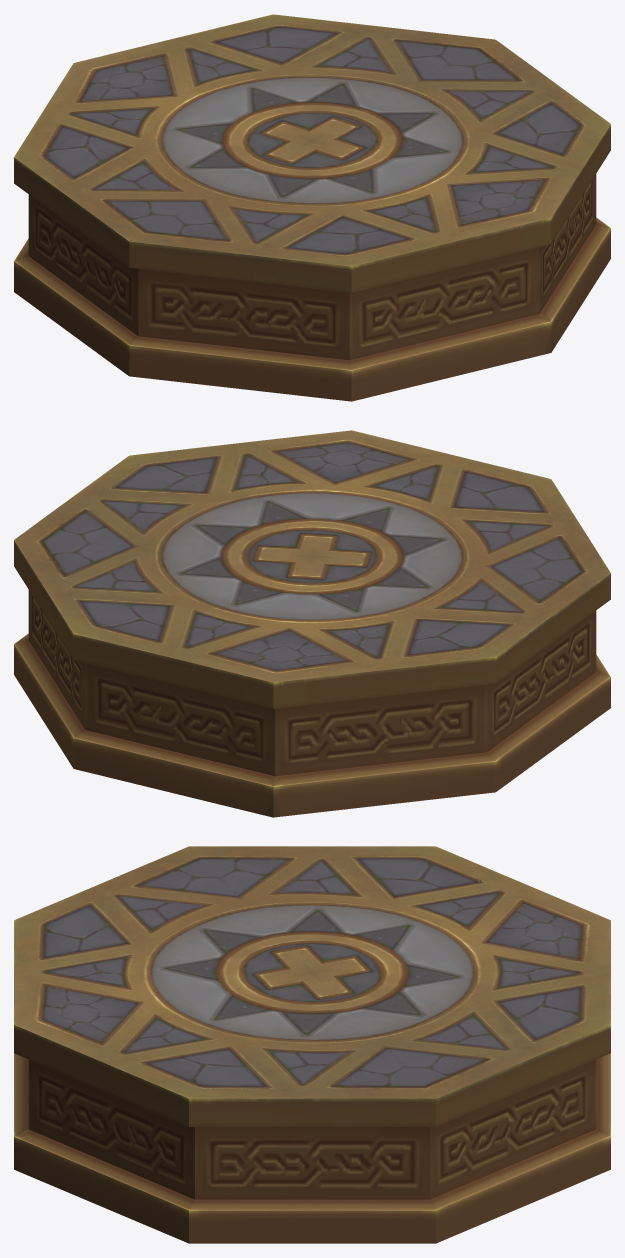
Rendered from scene_feicuizhita_tanei02.FBX.
3 renders of one model, top to bottom at view 1: azimuth 30°, elevation 25°; view 2: azimuth 150°, elevation 25°; view 3: azimuth 270°, elevation 25°, orthographic. The views are drawn at different scales.
Parts seen in each view (by area): view 1: scene_feicuizhita_tanei02; view 2: scene_feicuizhita_tanei02; view 3: scene_feicuizhita_tanei02.
Part boxes in pixels (box(x1,y1,x2,y2)): scene_feicuizhita_tanei02: box(14, 14, 610, 401); scene_feicuizhita_tanei02: box(14, 430, 610, 817); scene_feicuizhita_tanei02: box(14, 846, 610, 1243).
Bounding box in the file's own units: 586 × 157 × 586.
